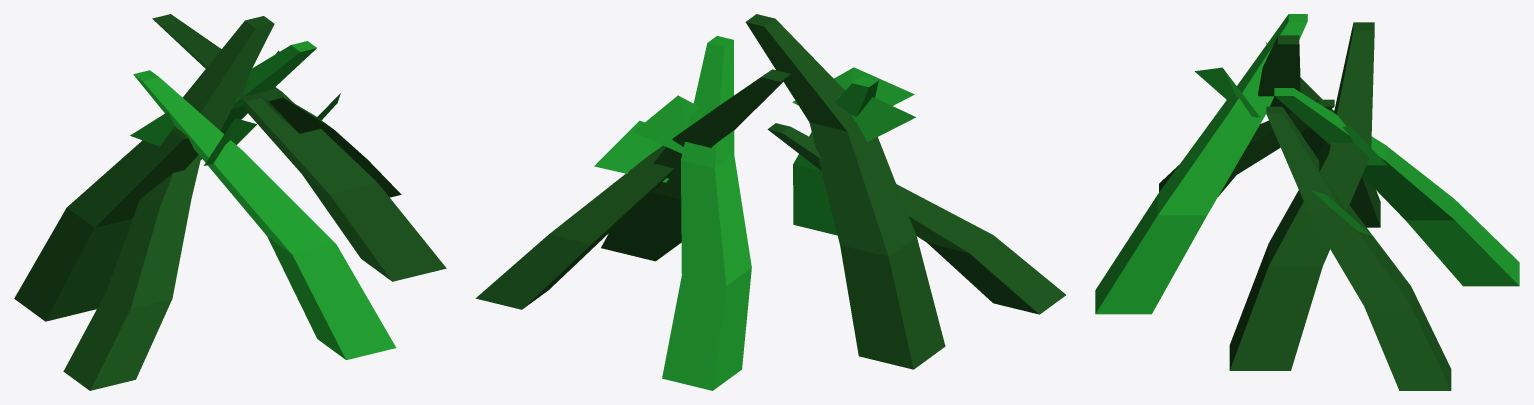
File: vine_snare.obj
3 renders of one model, left to right at view 1: azimuth 30°, elevation 25°; view 2: azimuth 150°, elevation 25°; view 3: azimuth 270°, elevation 25°, orthographic. The views are drawn at different scales.
Parts seen in each view (by area): view 1: LivingVineA, LivingVineD, LivingVineE, LivingVineB, LivingVineF, LivingVineC, SpiritLeaves; view 2: LivingVineA, LivingVineC, LivingVineE, LivingVineF, LivingVineB, SpiritLeaves, LivingVineD; view 3: LivingVineB, LivingVineD, LivingVineF, LivingVineC, LivingVineA, SpiritLeaves, LivingVineE.
Boxes of the visible parts, x1,y1,x2,y2 form: LivingVineA: (14,16,274,321); LivingVineD: (133,70,396,359); LivingVineE: (63,155,200,390); LivingVineB: (152,14,446,281); LivingVineF: (260,91,401,197); LivingVineC: (200,41,316,159); SpiritLeaves: (130,50,340,165); LivingVineA: (745,14,945,369); LivingVineC: (662,36,751,390); LivingVineE: (767,123,1065,314); LivingVineF: (475,145,674,309); LivingVineB: (601,69,790,261); SpiritLeaves: (594,67,915,182); LivingVineD: (793,76,878,235); LivingVineB: (1229,22,1374,370); LivingVineD: (1095,14,1307,314); LivingVineF: (1266,106,1451,390); LivingVineC: (1274,88,1519,286); LivingVineA: (1258,35,1380,227); SpiritLeaves: (1195,41,1387,236); LivingVineE: (1159,99,1334,196).
Size of the model in its own units: 2.08 by 1.2 by 1.8.
